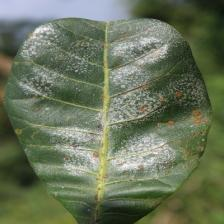red rust: (3, 16, 213, 224)
